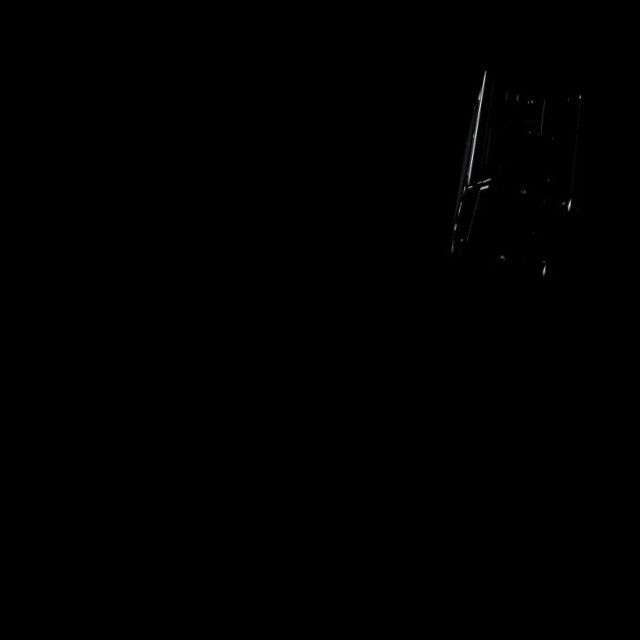medium_debris: (430, 57, 605, 286)
